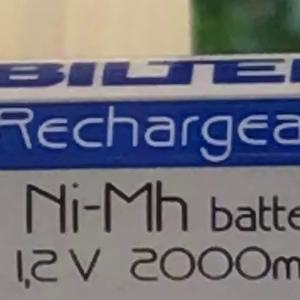keyword: (16, 170, 198, 244)
